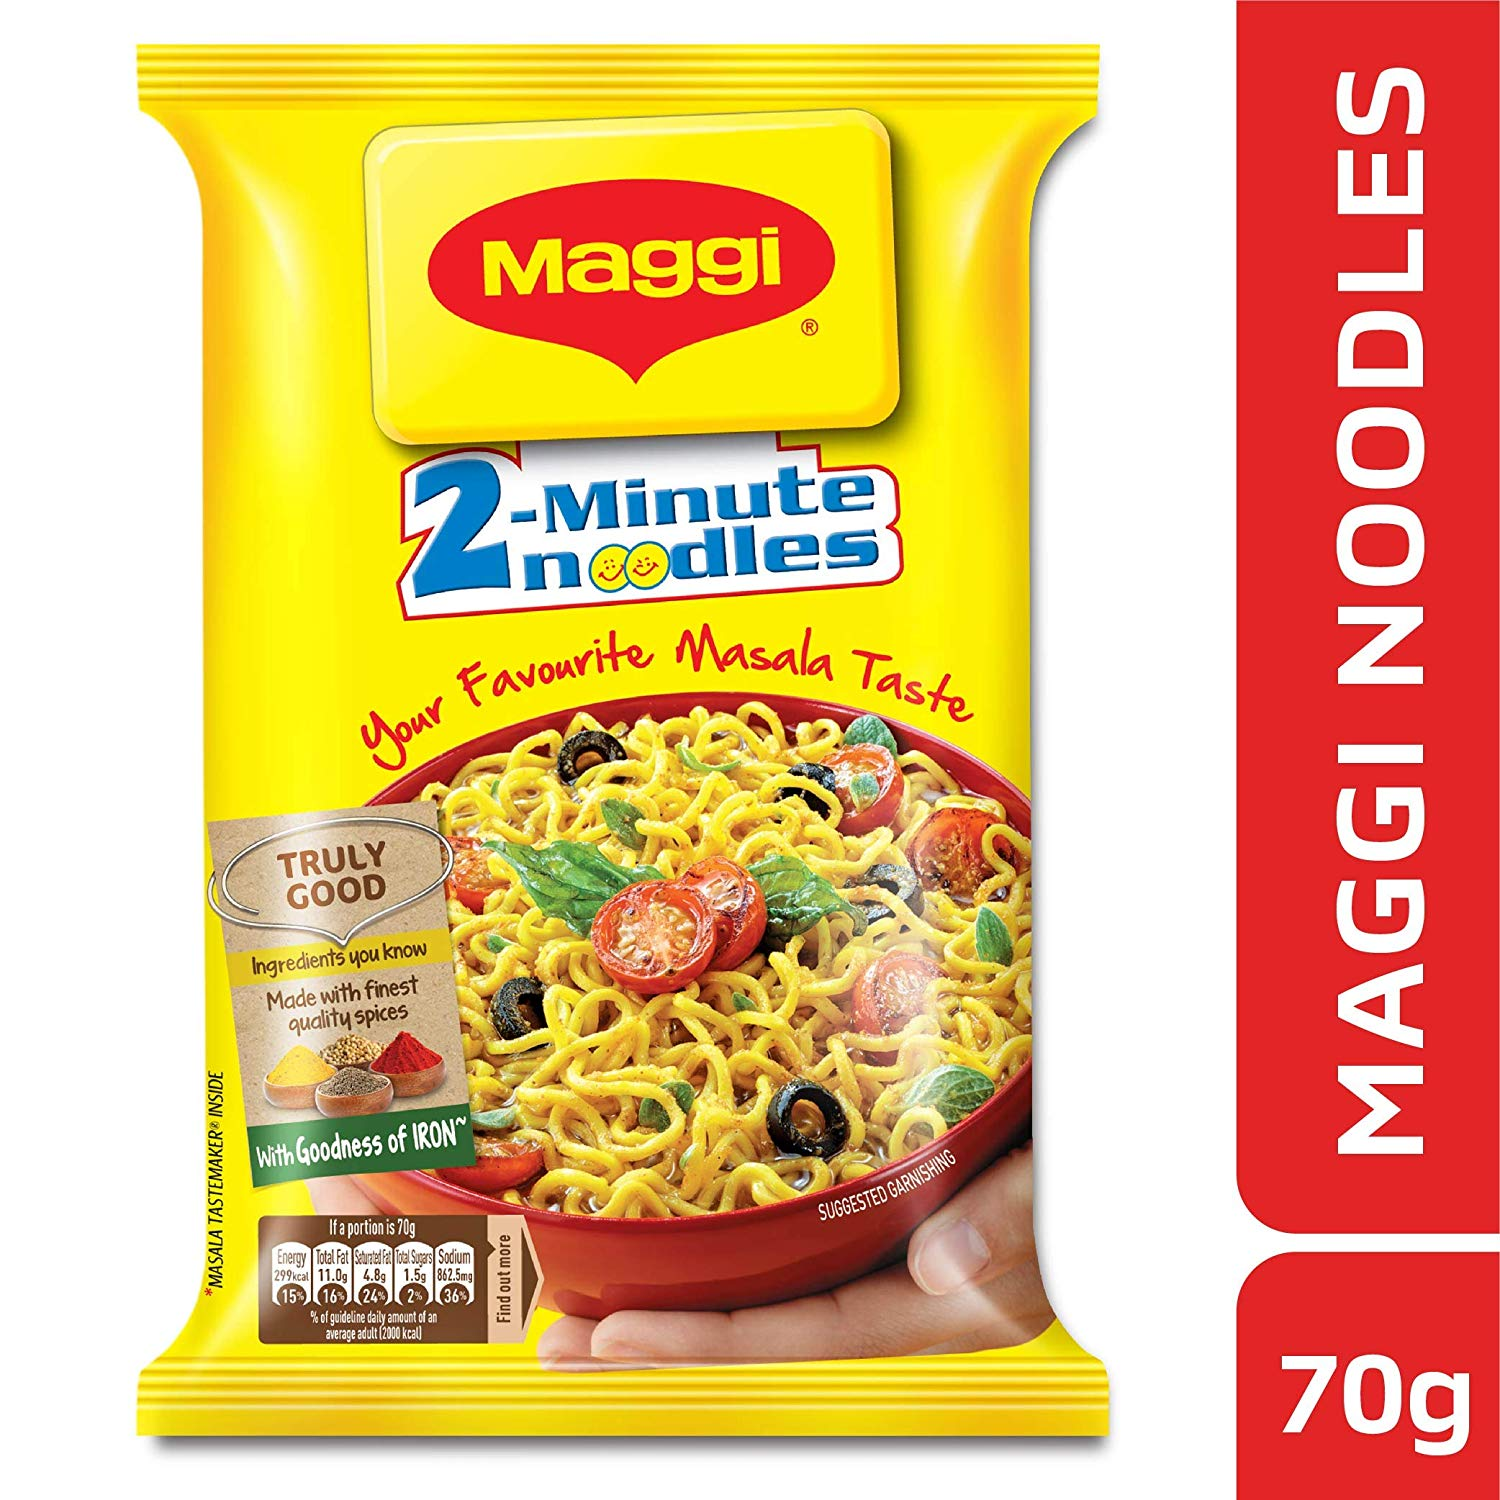maggie: (135, 47, 1109, 1441)
